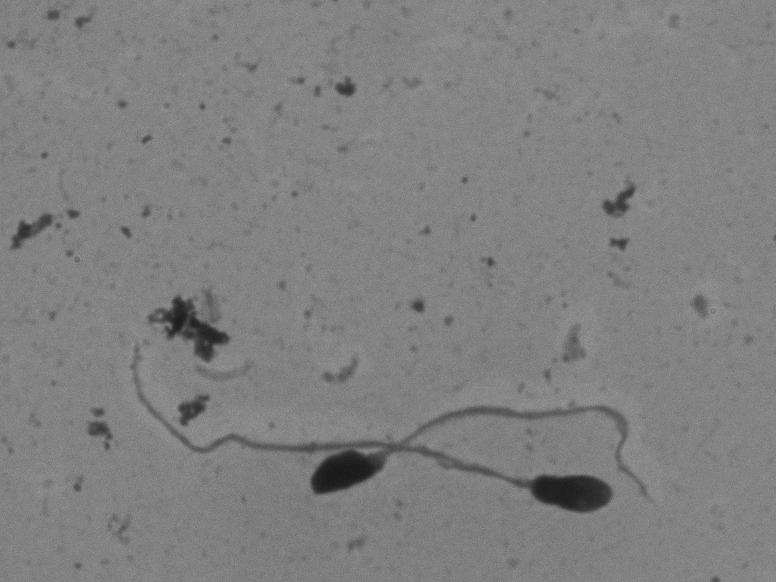Abnormal: (77, 319, 619, 528), (297, 392, 676, 524)
